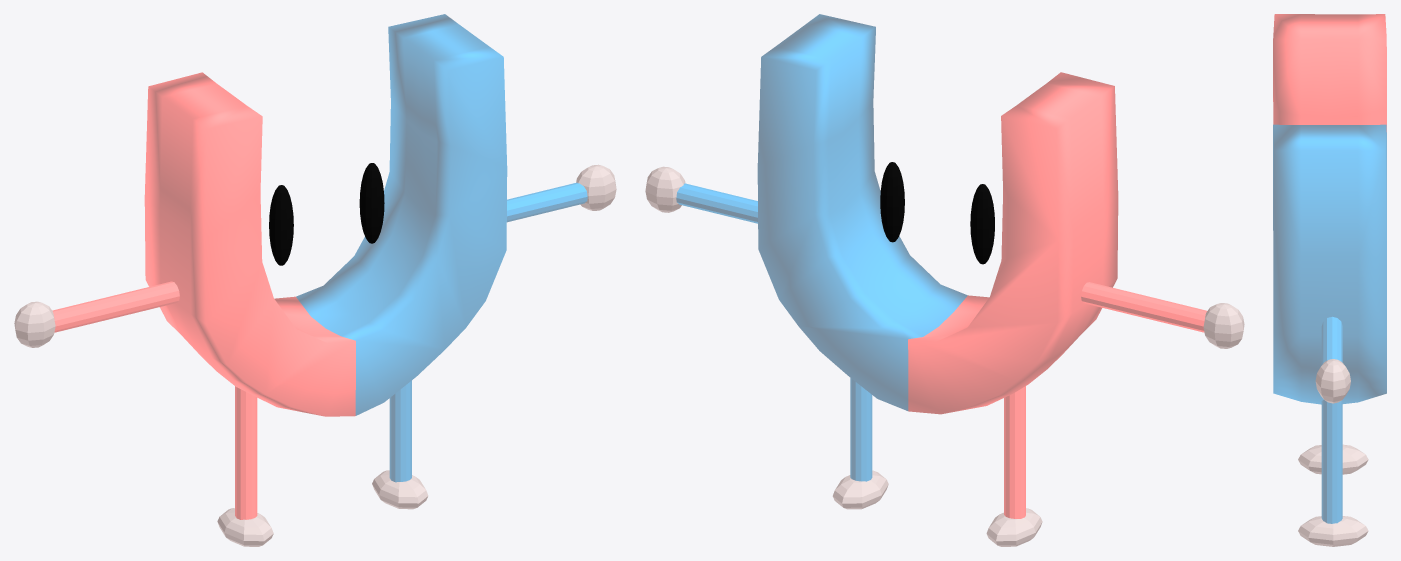
The model's file is magnet 1.fbx.
3 views of the same model, side by side, from view 1: azimuth 30°, elevation 25°; view 2: azimuth 150°, elevation 25°; view 3: azimuth 270°, elevation 25° (orthographic). The views are drawn at different scales.
Visible parts, largest first — view 1: Body, pCylinder6, pCylinder7, pCylinder1, pCylinder8, pSphere12, pSphere1, pSphere5, pSphere8, pSphere7, pSphere6; view 2: Body, pCylinder7, pCylinder6, pCylinder1, pCylinder8, pSphere12, pSphere1, pSphere5, pSphere8, pSphere7, pSphere6; view 3: Body, pCylinder1, pSphere8, pSphere6, pSphere7, pCylinder8.
Boxes of the visible parts, bbox=[...] form: Body: bbox=[144, 14, 507, 416]; pCylinder6: bbox=[235, 386, 257, 519]; pCylinder7: bbox=[52, 281, 179, 332]; pCylinder1: bbox=[389, 380, 411, 482]; pCylinder8: bbox=[507, 182, 587, 222]; pSphere12: bbox=[359, 163, 384, 243]; pSphere1: bbox=[269, 185, 293, 265]; pSphere5: bbox=[14, 301, 55, 347]; pSphere8: bbox=[372, 470, 428, 509]; pSphere7: bbox=[217, 508, 273, 546]; pSphere6: bbox=[576, 164, 616, 210]; Body: bbox=[757, 14, 1118, 414]; pCylinder7: bbox=[1081, 282, 1206, 332]; pCylinder6: bbox=[1004, 386, 1025, 518]; pCylinder1: bbox=[850, 378, 872, 481]; pCylinder8: bbox=[676, 183, 757, 223]; pSphere12: bbox=[880, 162, 904, 242]; pSphere1: bbox=[970, 184, 994, 264]; pSphere5: bbox=[1203, 303, 1244, 348]; pSphere8: bbox=[832, 470, 888, 509]; pSphere7: bbox=[986, 508, 1042, 546]; pSphere6: bbox=[645, 166, 685, 212]; Body: bbox=[1273, 14, 1386, 404]; pCylinder1: bbox=[1321, 400, 1342, 523]; pSphere8: bbox=[1298, 516, 1368, 546]; pSphere6: bbox=[1315, 359, 1350, 403]; pSphere7: bbox=[1298, 444, 1368, 474]; pCylinder8: bbox=[1321, 316, 1342, 364].
Bounding box in the file's own units: 11.52 × 8.29 × 2.
